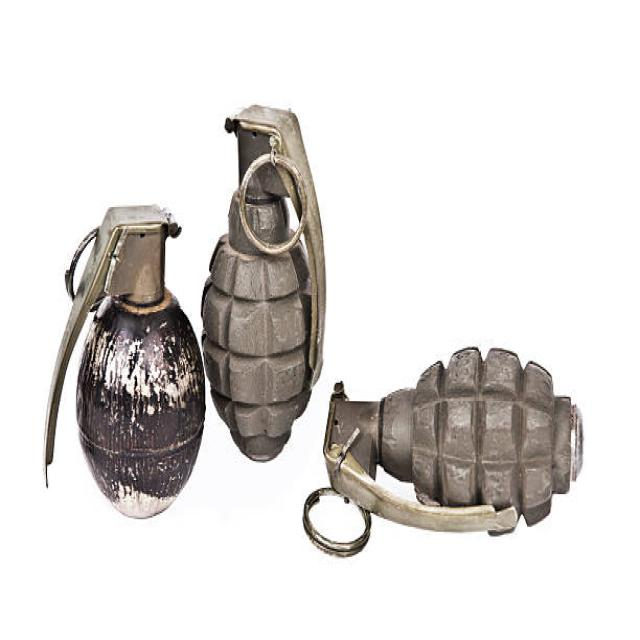grenade: (304, 346, 587, 564), (38, 200, 209, 528), (200, 103, 330, 462)
